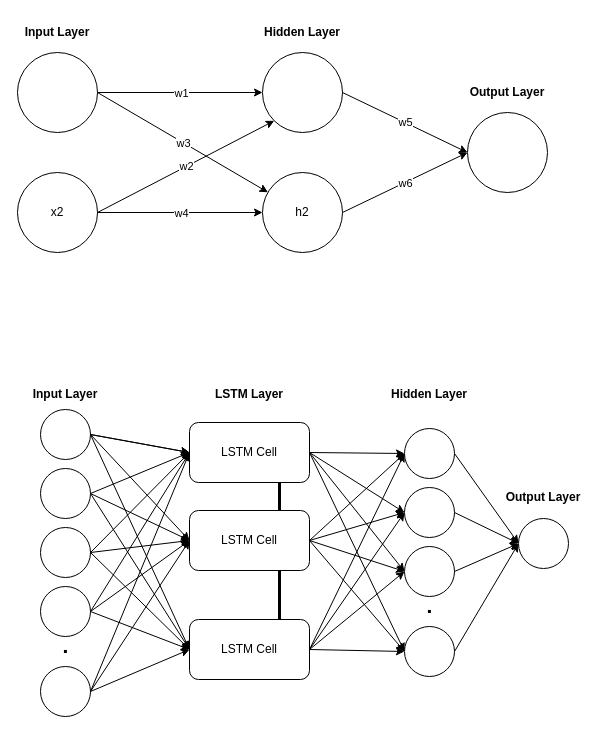
The diagram is 601 pixels wide and 734 high, and some of its shapes have lost their labels. Each missing label, with the centre of its shape:
"h1" goes at point 302,92.
"o1" goes at point 507,152.
"x1" goes at point 57,92.
